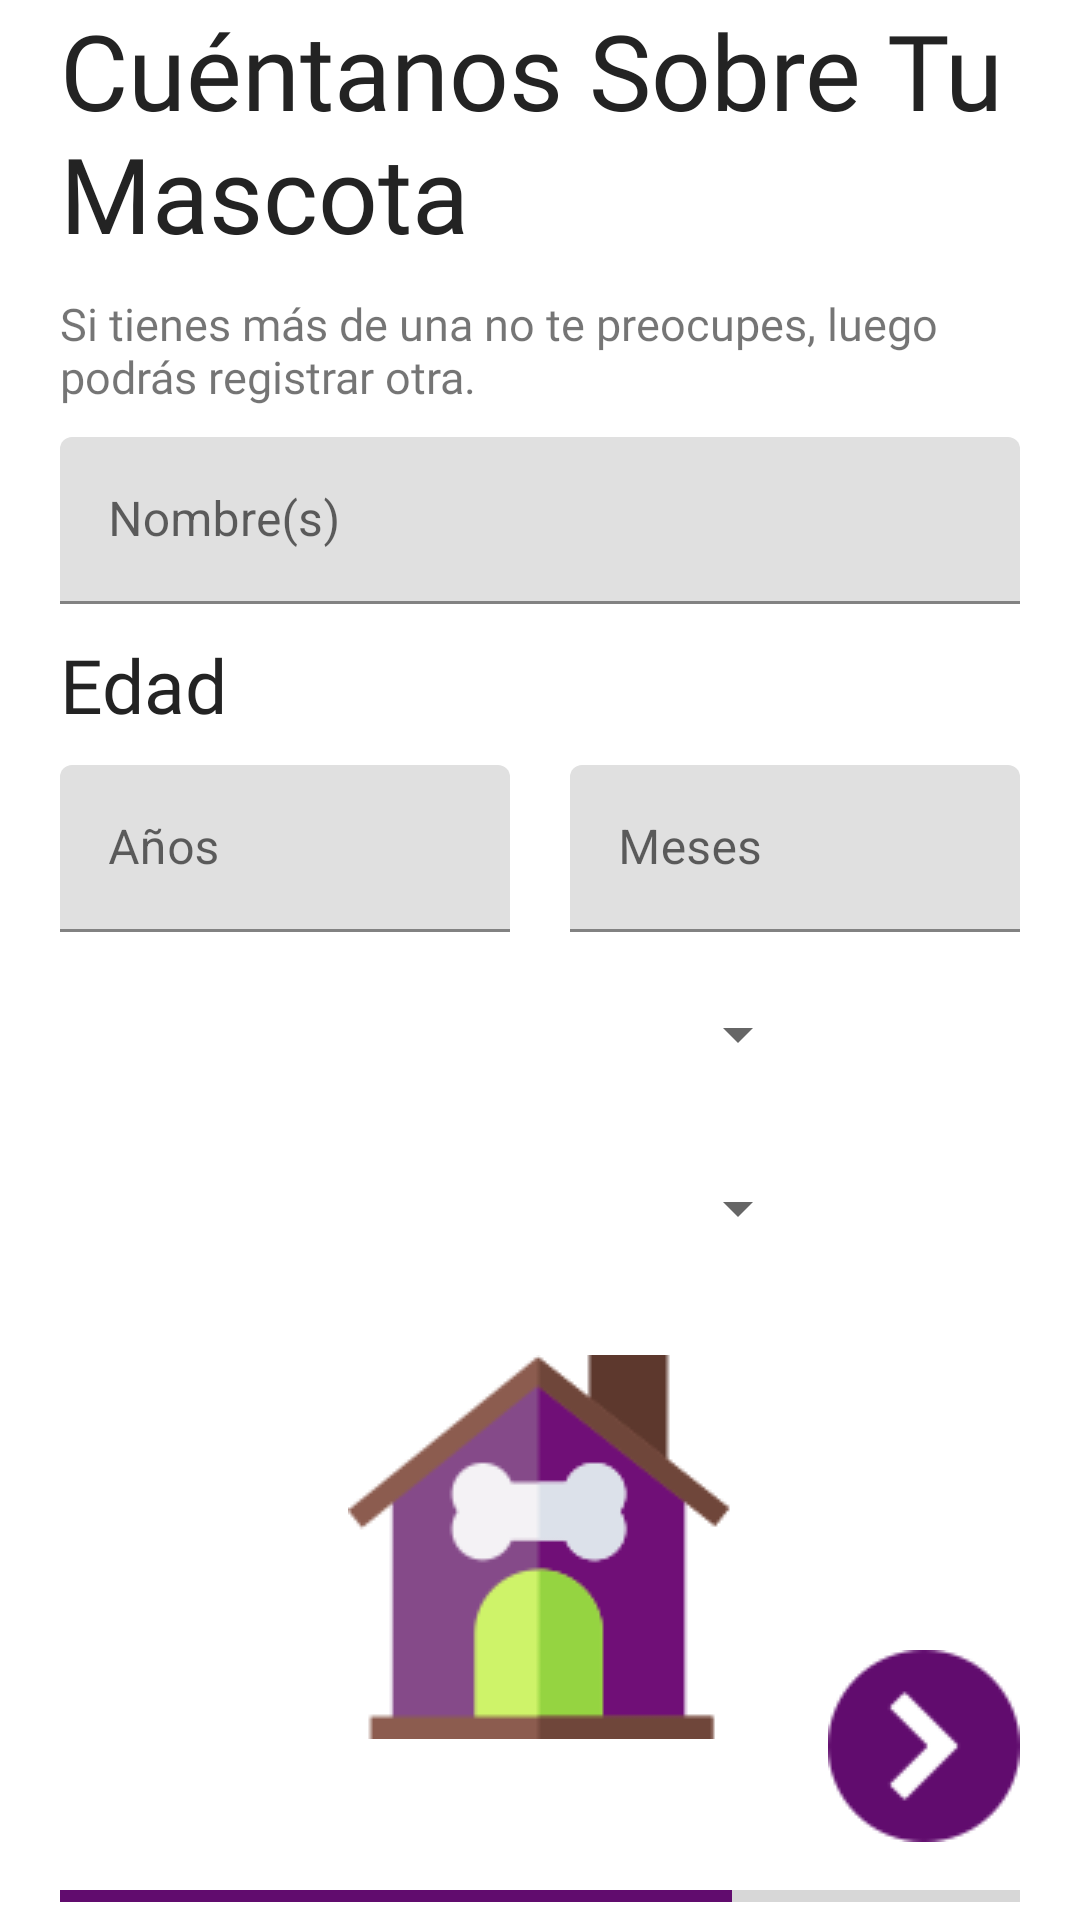

Point at icon controls on the screen. Image size 1080*1920, points as [x,y].
Icono siguiente: [924,1746]
